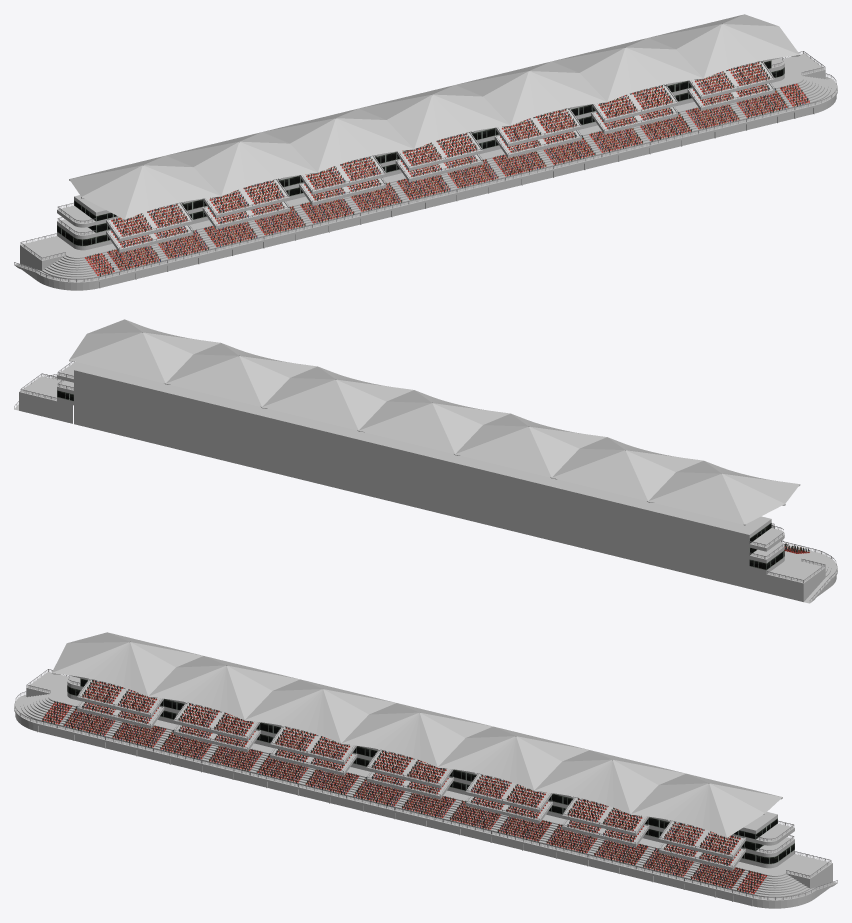
File: GrandStand-10.fbx
The picture shows the model from 3 angles, top to bottom: view 1: azimuth 30°, elevation 25°; view 2: azimuth 150°, elevation 25°; view 3: azimuth 330°, elevation 25°; orthographic projection.
Parts seen in each view (by area): view 1: GrandStand-10, Audience; view 2: GrandStand-10; view 3: GrandStand-10, Audience.
Part boxes in pixels (x1=…): GrandStand-10: x1=14, y1=14, x2=837, y2=290; Audience: x1=86, y1=61, x2=808, y2=276; GrandStand-10: x1=14, y1=319, x2=837, y2=603; GrandStand-10: x1=14, y1=632, x2=837, y2=908; Audience: x1=42, y1=680, x2=763, y2=893.
Size of the model in its own units: 32973 by 3504 by 4009.
